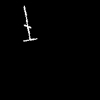double_crochet: (24, 6, 35, 40)
